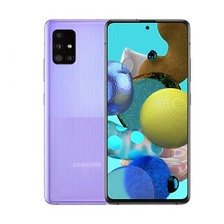phone: (38, 13, 133, 207), (102, 16, 194, 208)
